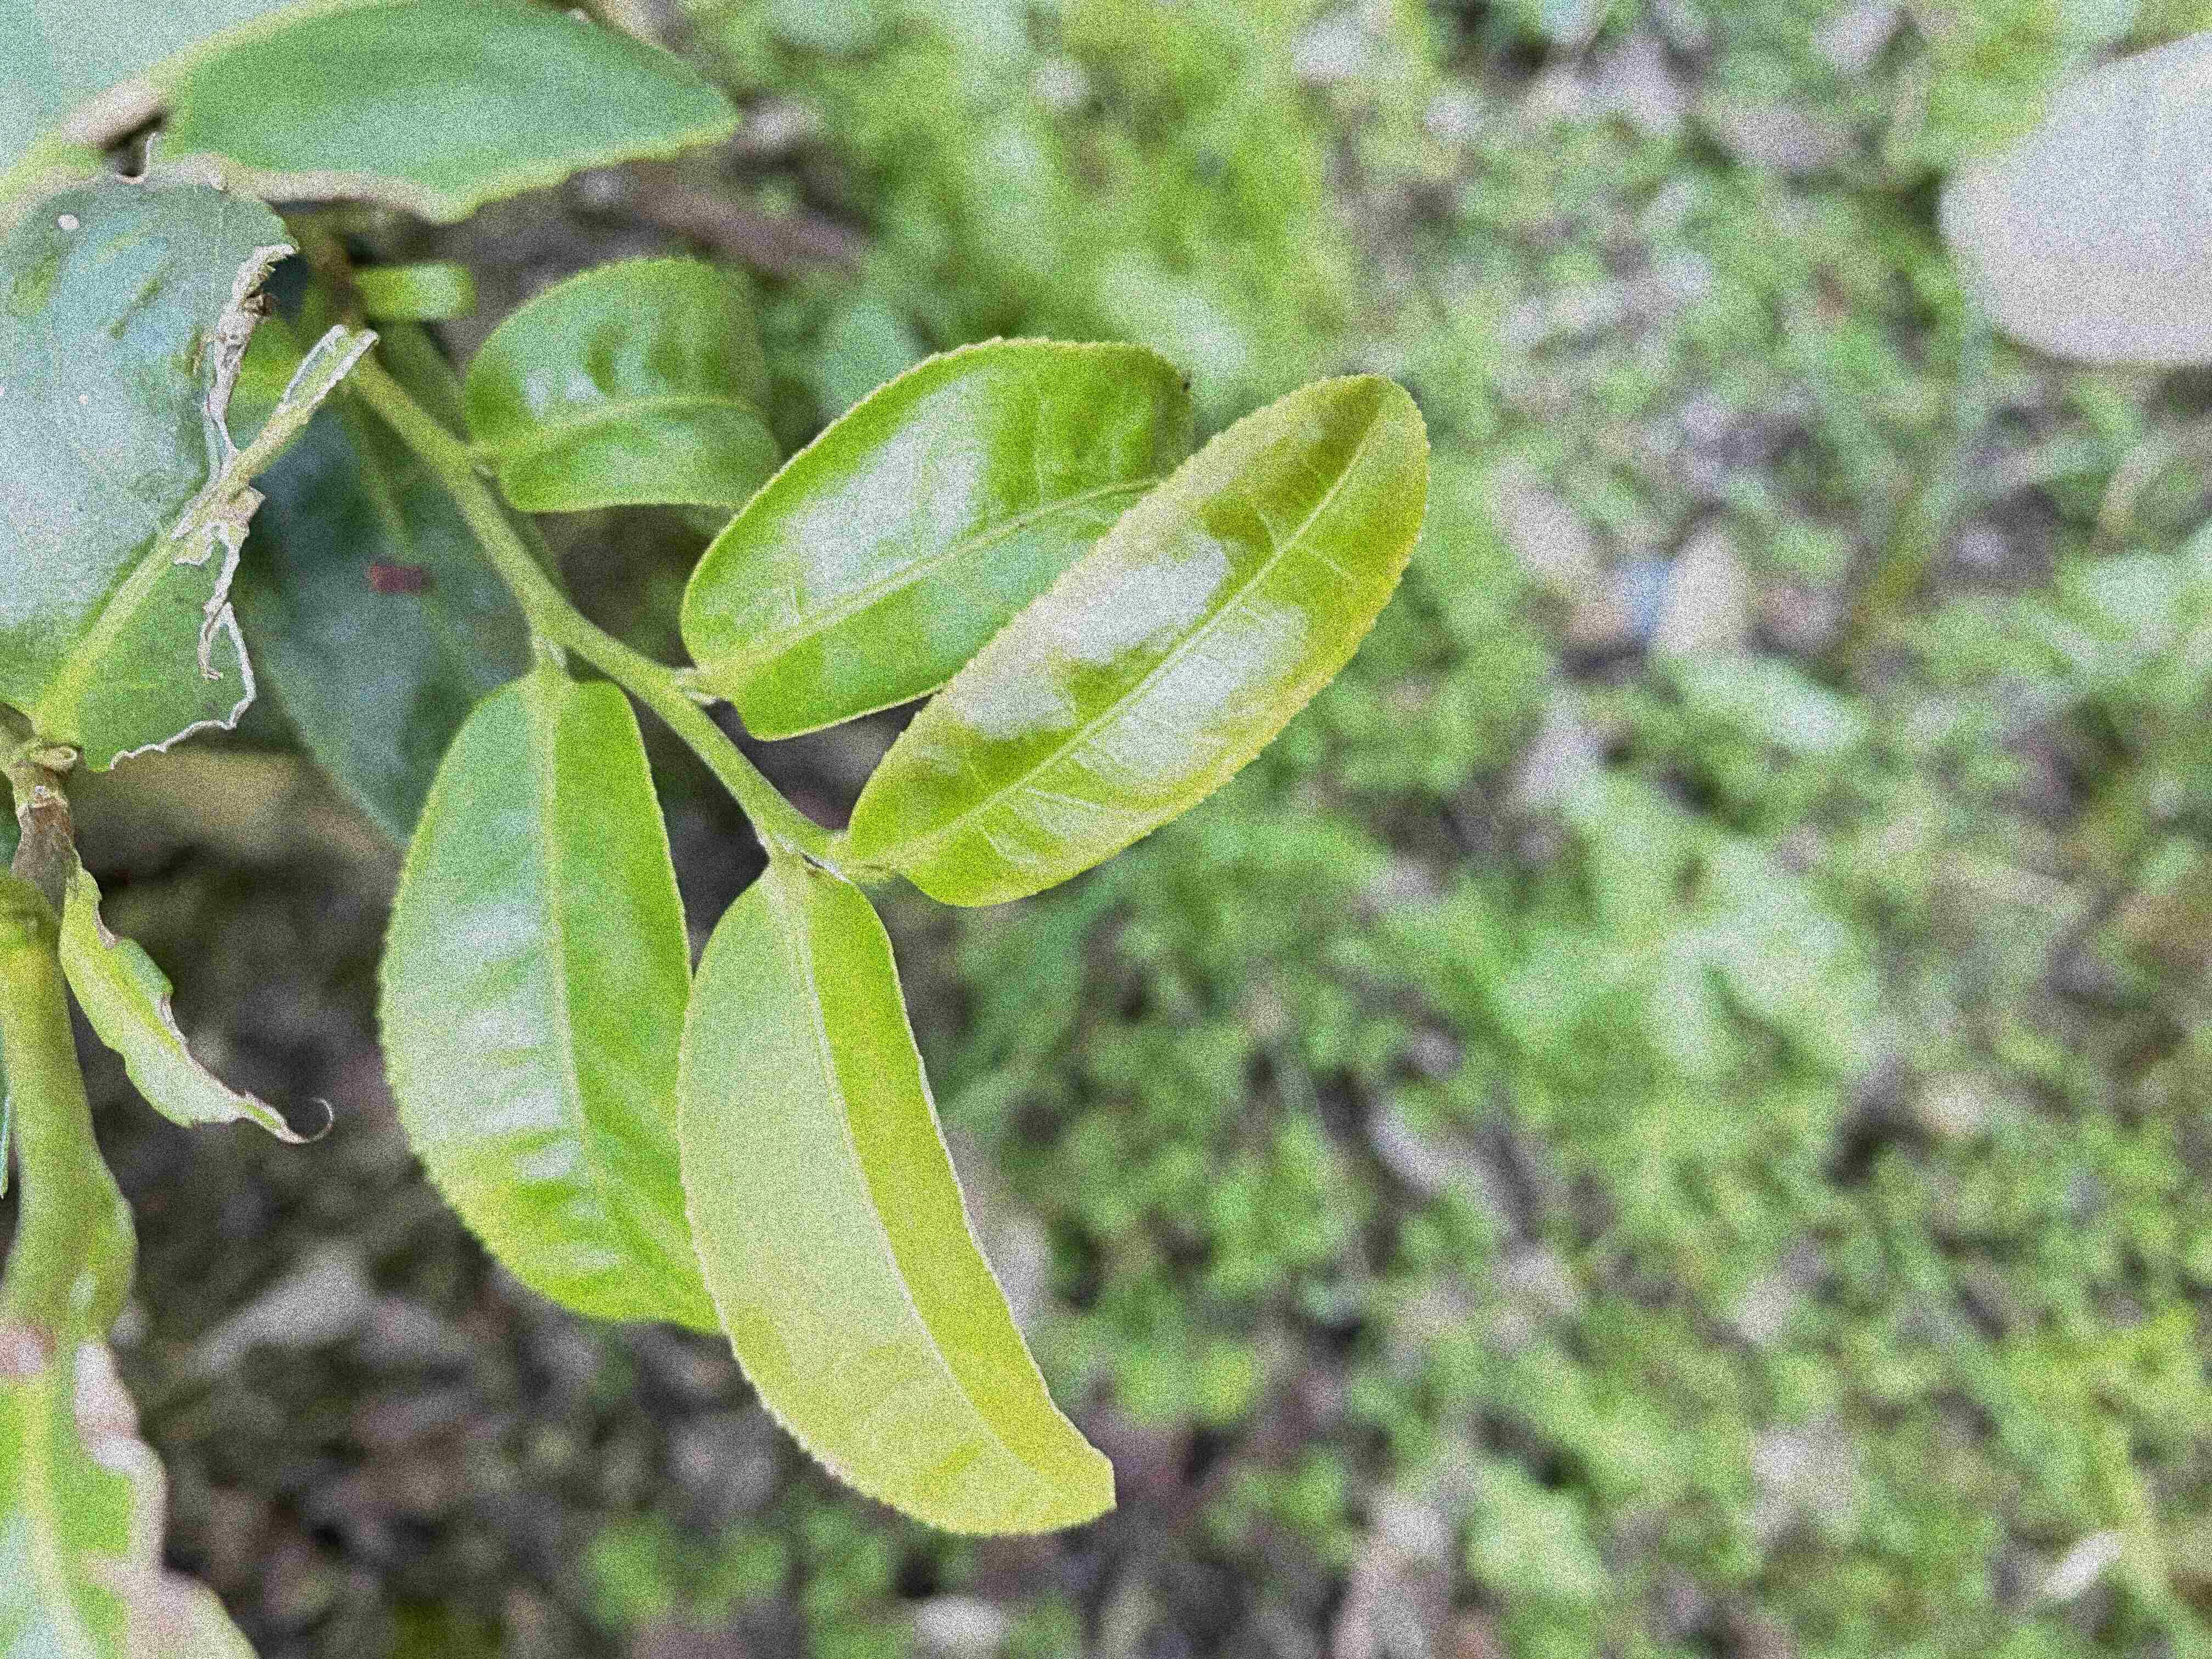chihuo_high: (0, 136, 298, 774), (61, 863, 340, 1143)
healthy: (843, 373, 1437, 911), (669, 870, 1118, 1539), (674, 331, 1202, 742), (373, 676, 693, 1333)
